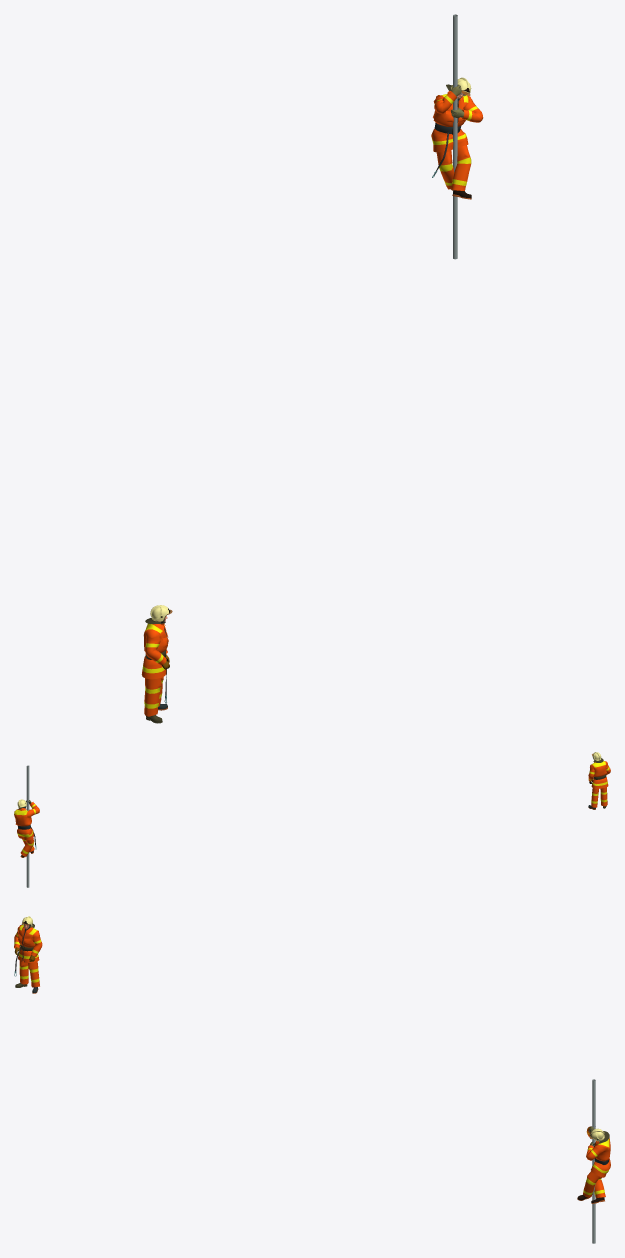
File: FireMan.FBX
3 renders of one model, top to bottom at view 1: azimuth 30°, elevation 25°; view 2: azimuth 150°, elevation 25°; view 3: azimuth 270°, elevation 25°, orthographic. The views are drawn at different scales.
Parts seen in each view (by area): view 1: polySurface20, polySurface26; view 2: polySurface20, polySurface26; view 3: polySurface20, polySurface26.
Part boxes in pixels (bbox=[...]): polySurface20: bbox=[431, 14, 483, 259]; polySurface26: bbox=[141, 605, 172, 723]; polySurface20: bbox=[14, 765, 39, 887]; polySurface26: bbox=[588, 752, 610, 809]; polySurface20: bbox=[577, 1079, 610, 1243]; polySurface26: bbox=[14, 916, 42, 993].
Size of the model in its own units: 4842 by 1474 by 4892.
